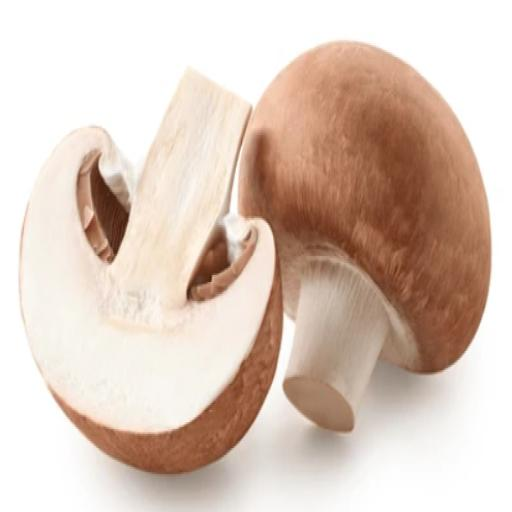Button Mushroom: (19, 62, 279, 473), (243, 30, 494, 437)
